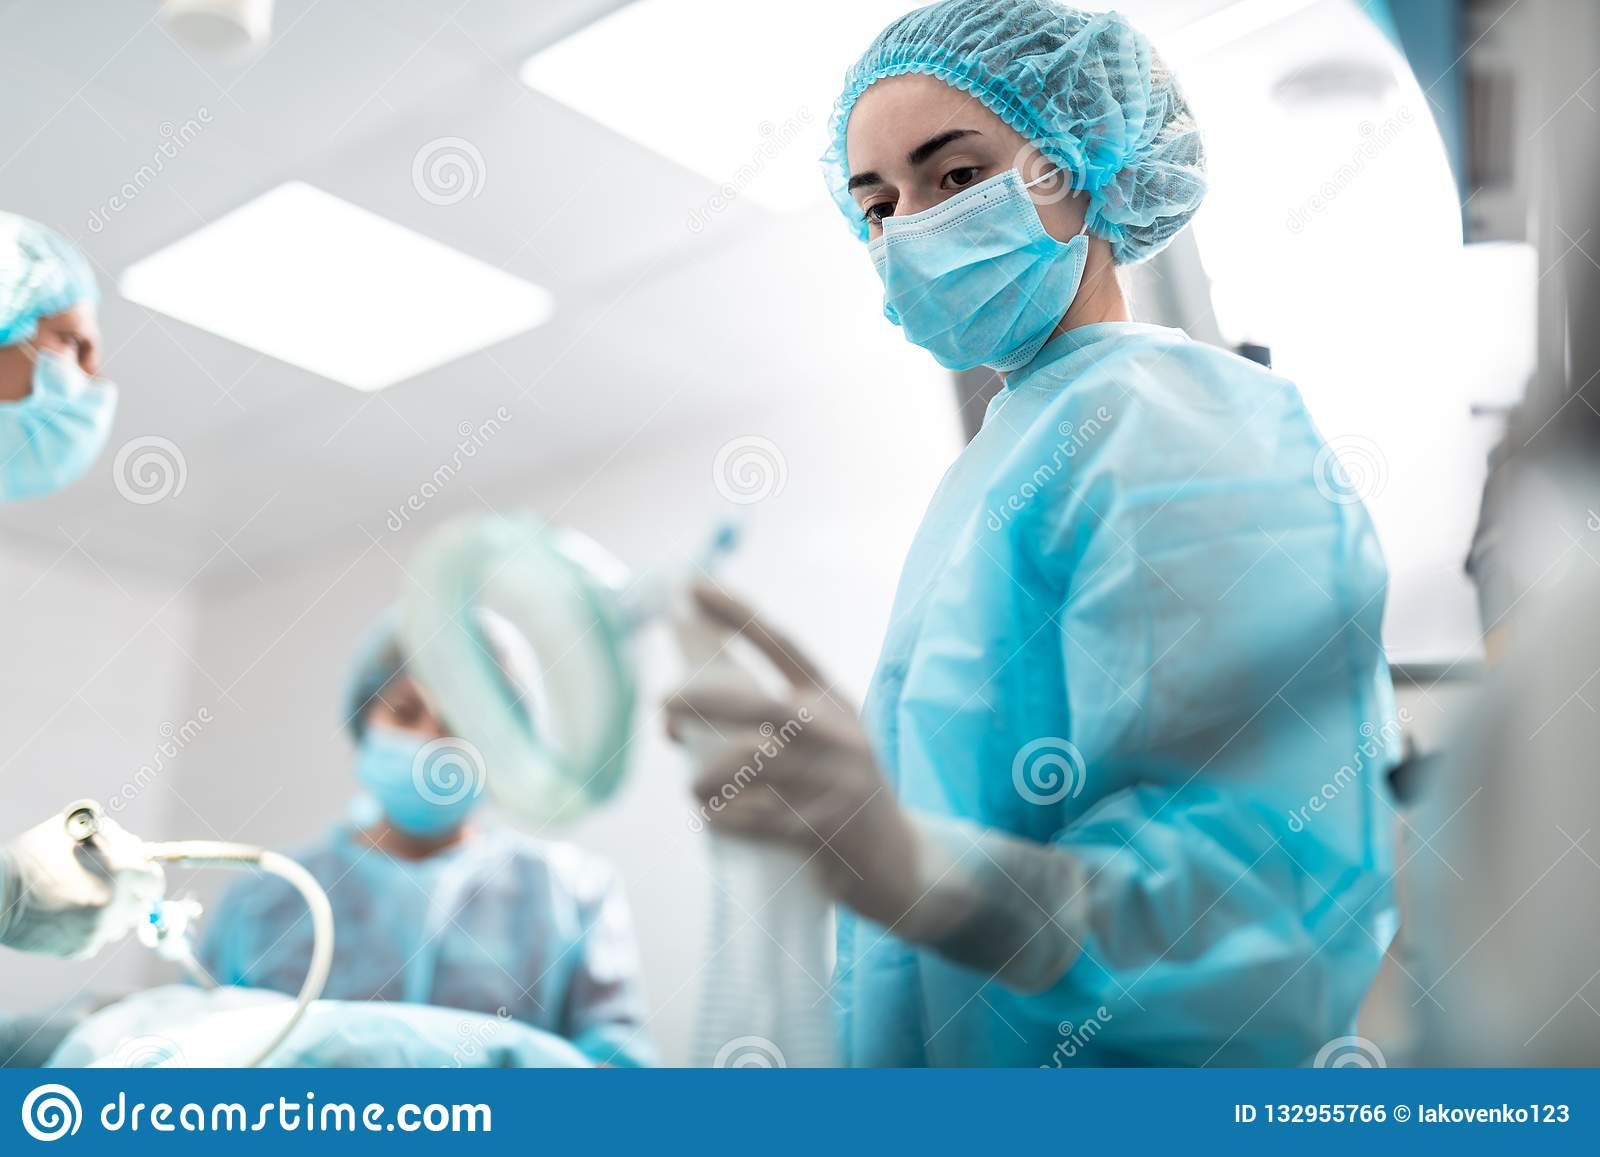mask: (860, 221, 1103, 370)
